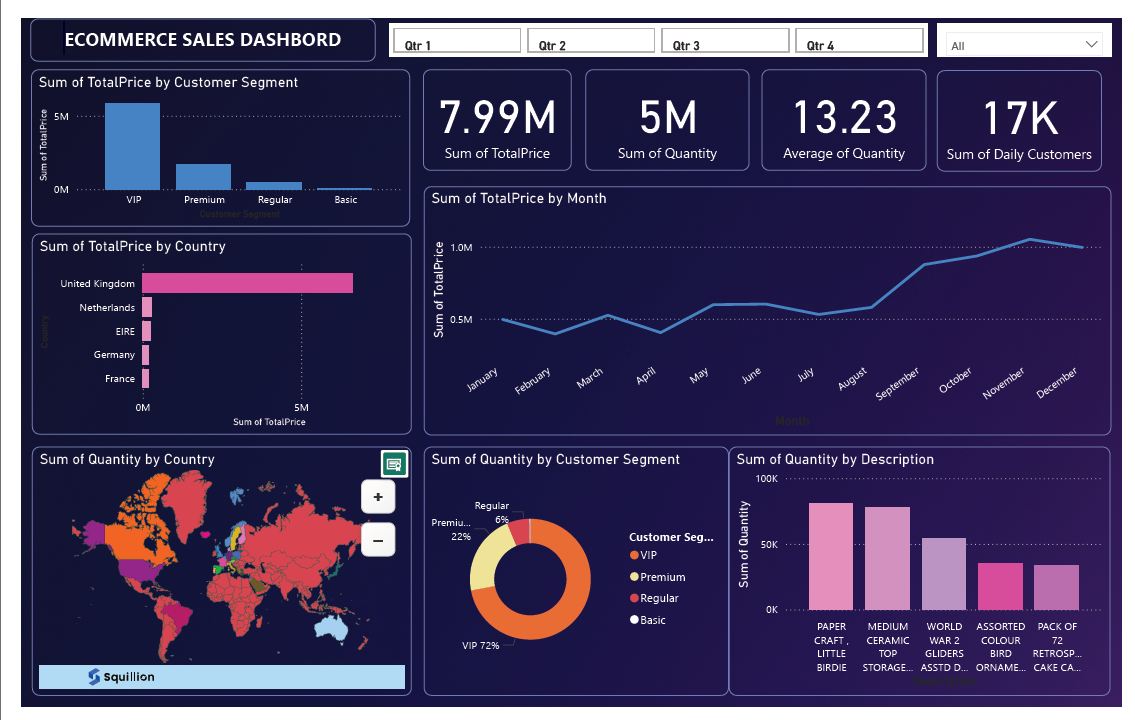

The dashboard page shown, as its layout file describes it:
{"tool":"powerbi","page":{"name":"Page 1","canvas":[1280,800],"ordinal":0},"visuals":[{"type":"textbox","box":[10,0,402,50],"z":0},{"type":"columnChart","fields":{"Category":["customer_analytics.Customer Segment"],"Y":["Sum(cleaned_data.TotalPrice)"]},"box":[11.1,58.9,441.1,183.3],"z":1000},{"type":"card","fields":{"Values":["Sum(cleaned_data.TotalPrice)"]},"box":[467.3,59.1,172.7,118.2],"z":2000},{"type":"card","fields":{"Values":["Avg(cleaned_data.Quantity)"]},"box":[861,59,192,118],"z":3000},{"type":"card","fields":{"Values":["Sum(cleaned_data.Quantity)"]},"box":[656,59,191,118],"z":4000},{"type":"clusteredBarChart","fields":{"Category":["cleaned_data.Country"],"Y":["Sum(cleaned_data.TotalPrice)"]},"box":[12,250,442,234],"z":5000},{"type":"MapBySquillion","fields":{"category":["cleaned_data.Country"],"value":["Sum(cleaned_data.Quantity)"]},"box":[12,498,442,290],"z":6000},{"type":"lineChart","fields":{"Y":["Sum(cleaned_data.TotalPrice)"],"Category":["cleaned_data.InvoiceDate.Variation.Date Hierarchy.Month"]},"box":[467.5,195,800,290],"z":7000},{"type":"donutChart","fields":{"Category":["customer_analytics.Customer Segment"],"Y":["Sum(cleaned_data.Quantity)"]},"box":[468.3,498.3,355,290],"z":8000},{"type":"columnChart","fields":{"Y":["Sum(cleaned_data.Quantity)"],"Category":["cleaned_data.Description"]},"box":[823.3,498.3,443.3,290],"z":9000},{"type":"card","fields":{"Values":["Sum(daily_time_series.Daily Customers)"]},"box":[1065,60,192,118],"z":10000},{"type":"slicer","fields":{"Values":["cleaned_data.InvoiceDate.Variation.Date Hierarchy.Year","cleaned_data.InvoiceDate.Variation.Date Hierarchy.Quarter","cleaned_data.InvoiceDate.Variation.Date Hierarchy.Month","cleaned_data.InvoiceDate.Variation.Date Hierarchy.Day"]},"box":[1066,6,202,38],"z":11000},{"type":"advancedSlicerVisual","fields":{"Values":["cleaned_data.InvoiceDate.Variation.Date Hierarchy.Quarter"]},"box":[428,6,626,38],"z":12000}]}

Visuals, with their boxes in screenshot pixels (x1, y1, x2, y2), scaled from the page's 1280x800 canvas onto the 1135x720 screenshot:
textbox: {"left": 9, "top": 0, "right": 365, "bottom": 45}
columnChart - customer_analytics.Customer Segment x Sum(cleaned_data.TotalPrice): {"left": 10, "top": 53, "right": 401, "bottom": 218}
card - Sum(cleaned_data.TotalPrice): {"left": 414, "top": 53, "right": 568, "bottom": 160}
card - Avg(cleaned_data.Quantity): {"left": 763, "top": 53, "right": 934, "bottom": 159}
card - Sum(cleaned_data.Quantity): {"left": 582, "top": 53, "right": 751, "bottom": 159}
clusteredBarChart - cleaned_data.Country x Sum(cleaned_data.TotalPrice): {"left": 11, "top": 225, "right": 403, "bottom": 436}
MapBySquillion - cleaned_data.Country x Sum(cleaned_data.Quantity): {"left": 11, "top": 448, "right": 403, "bottom": 709}
lineChart - Sum(cleaned_data.TotalPrice) x cleaned_data.InvoiceDate.Variation.Date Hierarchy.Month: {"left": 415, "top": 176, "right": 1124, "bottom": 436}
donutChart - customer_analytics.Customer Segment x Sum(cleaned_data.Quantity): {"left": 415, "top": 448, "right": 730, "bottom": 709}
columnChart - Sum(cleaned_data.Quantity) x cleaned_data.Description: {"left": 730, "top": 448, "right": 1123, "bottom": 709}
card - Sum(daily_time_series.Daily Customers): {"left": 944, "top": 54, "right": 1115, "bottom": 160}
slicer - cleaned_data.InvoiceDate.Variation.Date Hierarchy.Year x cleaned_data.InvoiceDate.Variation.Date Hierarchy.Quarter: {"left": 945, "top": 5, "right": 1124, "bottom": 40}
advancedSlicerVisual - cleaned_data.InvoiceDate.Variation.Date Hierarchy.Quarter: {"left": 380, "top": 5, "right": 935, "bottom": 40}
